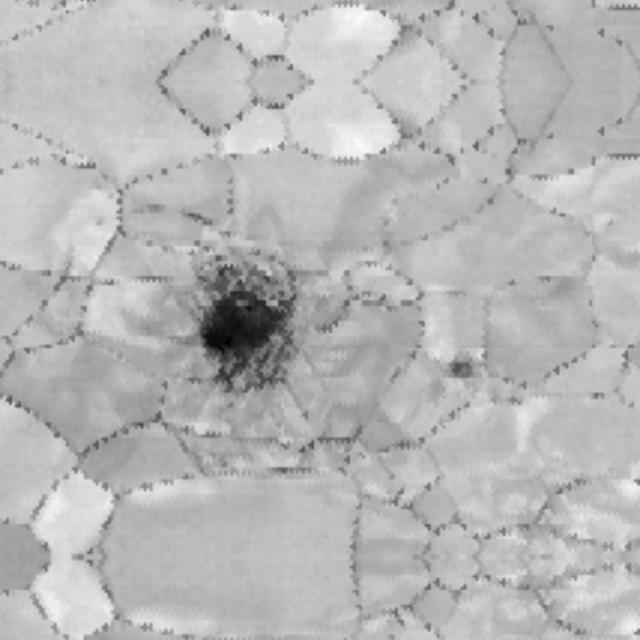good_void: (183, 269, 309, 398), (446, 349, 479, 382), (90, 213, 110, 231)
